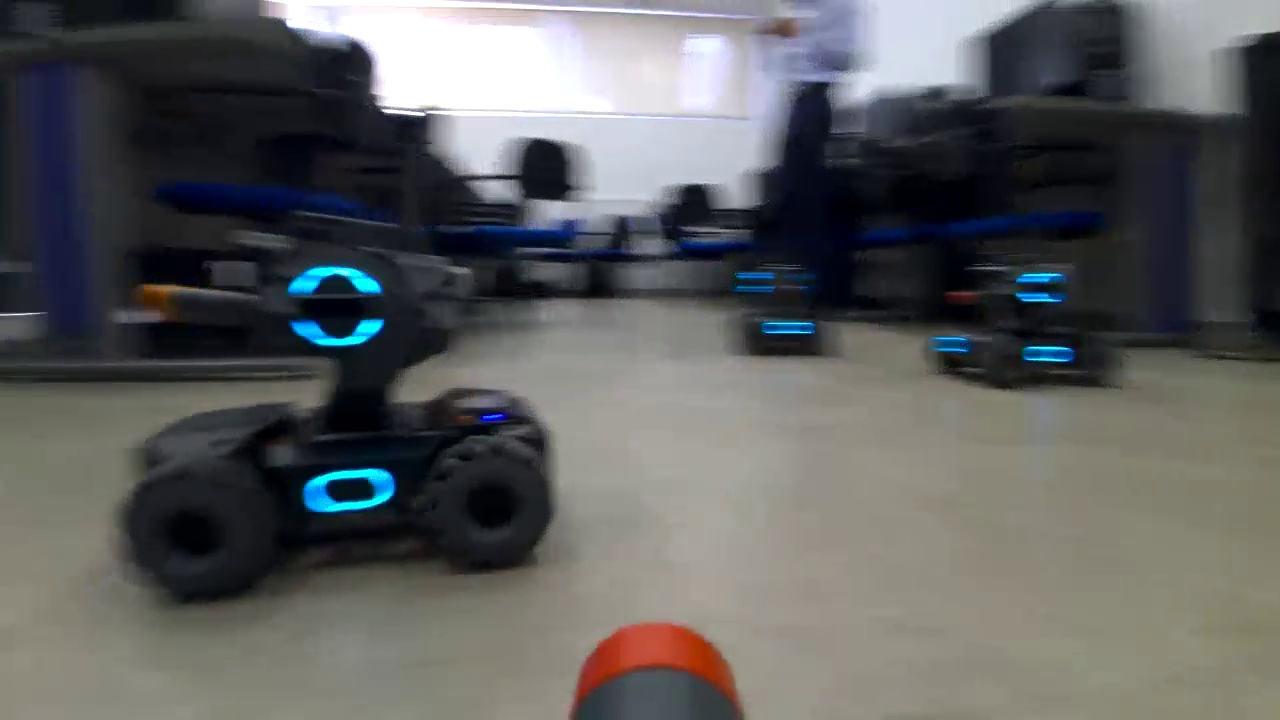robot: (108, 231, 569, 609), (922, 250, 1126, 393), (718, 253, 835, 371)
